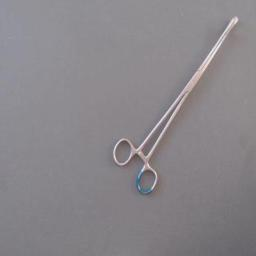Sponge Forceps: (108, 8, 244, 200)
